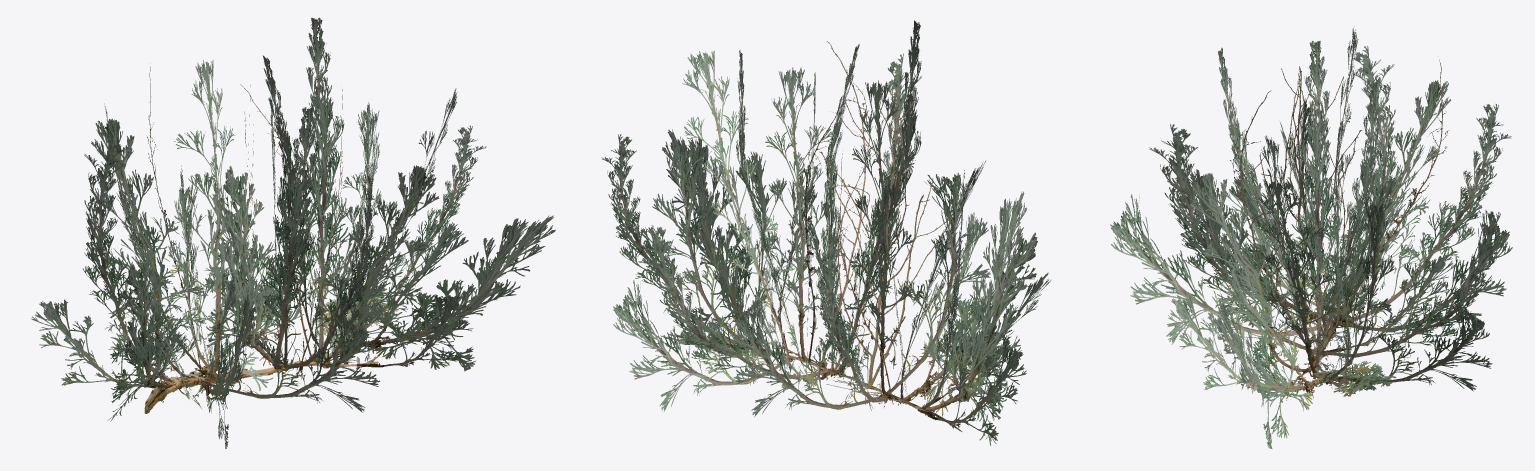
Rendered from sea_wormwood_02.fbx.
3 views of the same model, side by side, from view 1: azimuth 30°, elevation 25°; view 2: azimuth 150°, elevation 25°; view 3: azimuth 270°, elevation 25° (orthographic). The views are drawn at different scales.
Parts seen in each view (by area): view 1: sea_wormwood_02_LOD0; view 2: sea_wormwood_02_LOD0; view 3: sea_wormwood_02_LOD0.
Part boxes in pixels (left/top/right/bottom): sea_wormwood_02_LOD0: left=31, top=17, right=555, bottom=448; sea_wormwood_02_LOD0: left=601, top=20, right=1050, bottom=445; sea_wormwood_02_LOD0: left=1110, top=26, right=1512, bottom=448.
Size of what is drawn, in the model's own units: 72.98 by 54.3 by 60.75.
